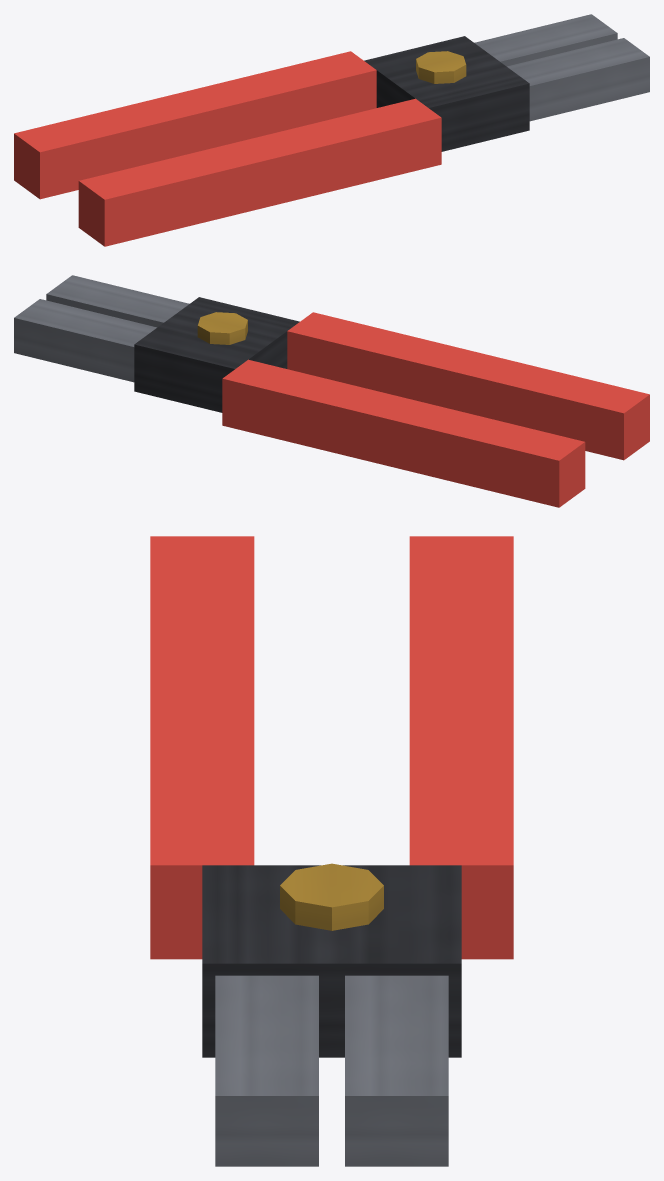
Rendered from Item_BoltCutter.fbx.
3 renders of one model, top to bottom at view 1: azimuth 30°, elevation 25°; view 2: azimuth 150°, elevation 25°; view 3: azimuth 270°, elevation 25°, orthographic. The views are drawn at different scales.
Visible parts, largest first — view 1: Item_BoltCutter; view 2: Item_BoltCutter; view 3: Item_BoltCutter.
Part boxes in pixels (bbox=[...]): Item_BoltCutter: bbox=[14, 14, 649, 246]; Item_BoltCutter: bbox=[14, 275, 649, 507]; Item_BoltCutter: bbox=[150, 536, 513, 1166].
Size of the model in its own units: 0.5 by 0.06 by 0.14.
Materials: 4 (3 with a texture image).
